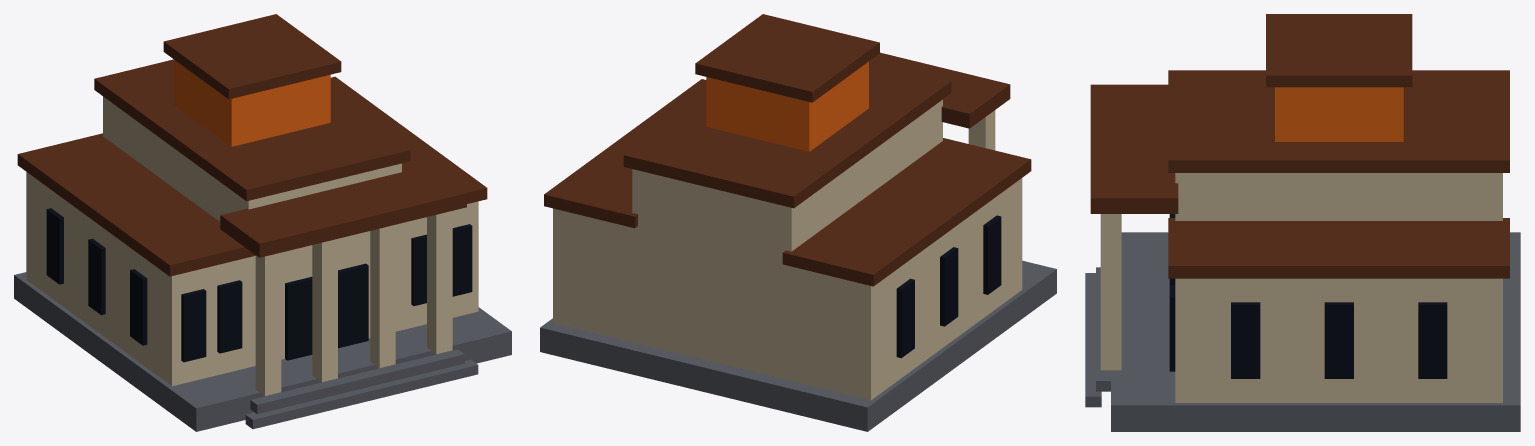
The model's file is museum.obj.
3 views of the same model, side by side, from view 1: azimuth 30°, elevation 25°; view 2: azimuth 150°, elevation 25°; view 3: azimuth 270°, elevation 25° (orthographic). The views are drawn at different scales.
Parts seen in each view (by area): view 1: cornice, wings, columns, plinth, portico-roof, hall, windows, lantern-cap, lantern, steps, entrance-door; view 2: cornice, hall, wings, plinth, lantern-cap, lantern, windows, portico-roof, columns; view 3: cornice, wings, plinth, hall, lantern-cap, portico-roof, windows, lantern, columns, steps.
Part boxes in pixels (left/top/right/bottom): cornice: left=17, top=59, right=487, bottom=276; wings: left=26, top=172, right=478, bottom=386; columns: left=255, top=211, right=452, bottom=395; plinth: left=14, top=272, right=511, bottom=431; portico-roof: left=220, top=164, right=466, bottom=257; hall: left=103, top=96, right=401, bottom=367; windows: left=46, top=208, right=472, bottom=362; lantern-cap: left=163, top=14, right=341, bottom=99; lantern: left=174, top=60, right=330, bottom=146; steps: left=245, top=349, right=478, bottom=429; entrance-door: left=285, top=263, right=368, bottom=360; cornice: left=544, top=61, right=1031, bottom=286; hall: left=632, top=99, right=942, bottom=380; wings: left=553, top=178, right=1022, bottom=400; plinth: left=540, top=260, right=1056, bottom=431; lantern-cap: left=695, top=14, right=879, bottom=102; lantern: left=706, top=61, right=868, bottom=151; windows: left=896, top=215, right=1001, bottom=358; portico-roof: left=870, top=52, right=1010, bottom=128; columns: left=968, top=110, right=995, bottom=150; cornice: left=1168, top=70, right=1509, bottom=278; wings: left=1175, top=278, right=1502, bottom=402; plinth: left=1111, top=232, right=1520, bottom=431; hall: left=1175, top=173, right=1502, bottom=220; lantern-cap: left=1266, top=14, right=1412, bottom=87; portico-roof: left=1090, top=84, right=1178, bottom=213; windows: left=1169, top=278, right=1447, bottom=378; lantern: left=1275, top=87, right=1403, bottom=141; columns: left=1100, top=214, right=1121, bottom=370; steps: left=1085, top=267, right=1110, bottom=407.
Size of the model in its own units: 7.04 by 5.67 by 7.44.
